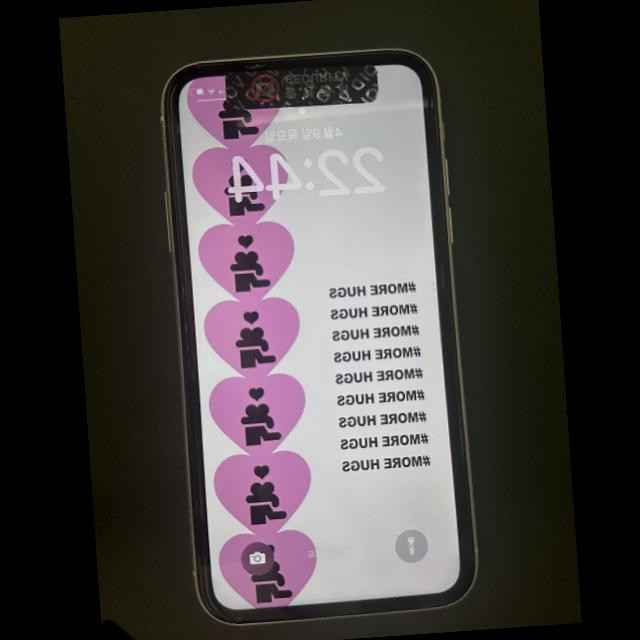phone: (161, 51, 476, 623)
sticker: (224, 64, 379, 110)
